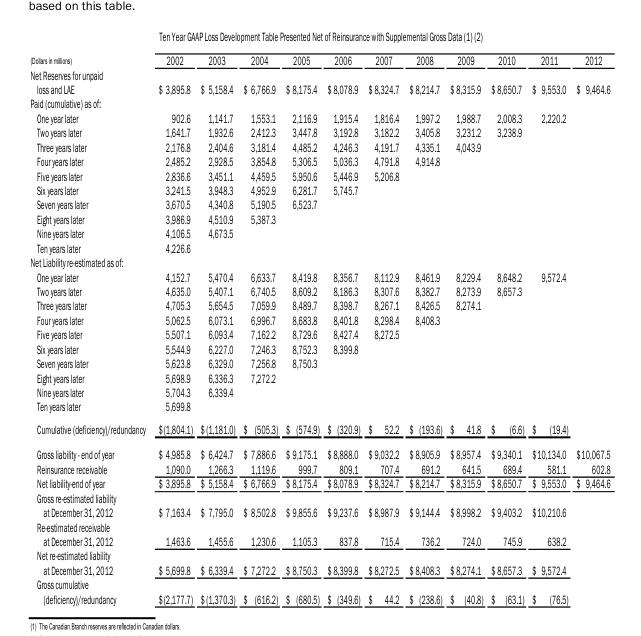table: (29, 28, 609, 605)
table column: (29, 28, 151, 605), (151, 28, 195, 605), (527, 28, 571, 605), (195, 28, 238, 605), (238, 28, 281, 605), (403, 28, 445, 605), (281, 28, 322, 605), (322, 28, 363, 605), (445, 28, 486, 605), (486, 28, 527, 605), (363, 28, 403, 605), (571, 28, 609, 605)
table column header: (29, 28, 609, 66)
table projected row header: (29, 66, 609, 81), (29, 95, 609, 110), (29, 547, 609, 562), (29, 576, 609, 591), (29, 254, 609, 268), (29, 490, 609, 504), (29, 519, 609, 533)
table row: (29, 417, 609, 441), (29, 441, 609, 461), (29, 28, 609, 47), (29, 47, 609, 66), (29, 398, 609, 417), (29, 66, 609, 81), (29, 95, 609, 110), (29, 124, 609, 139), (29, 167, 609, 182), (29, 196, 609, 211), (29, 225, 609, 240), (29, 268, 609, 283), (29, 297, 609, 312), (29, 326, 609, 341), (29, 369, 609, 384), (29, 475, 609, 490), (29, 504, 609, 519), (29, 547, 609, 562), (29, 576, 609, 591), (29, 81, 609, 95), (29, 110, 609, 124), (29, 139, 609, 153), (29, 153, 609, 167), (29, 182, 609, 196), (29, 211, 609, 225), (29, 240, 609, 254), (29, 254, 609, 268), (29, 283, 609, 297), (29, 312, 609, 326), (29, 341, 609, 355), (29, 355, 609, 369), (29, 384, 609, 398), (29, 461, 609, 475), (29, 490, 609, 504), (29, 519, 609, 533), (29, 533, 609, 547), (29, 562, 609, 576), (29, 591, 609, 605)
table spanning cell: (151, 28, 609, 47), (29, 28, 151, 66)
